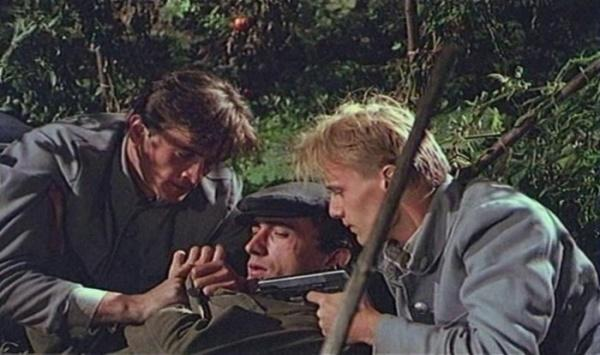Gun: (259, 269, 351, 303)
